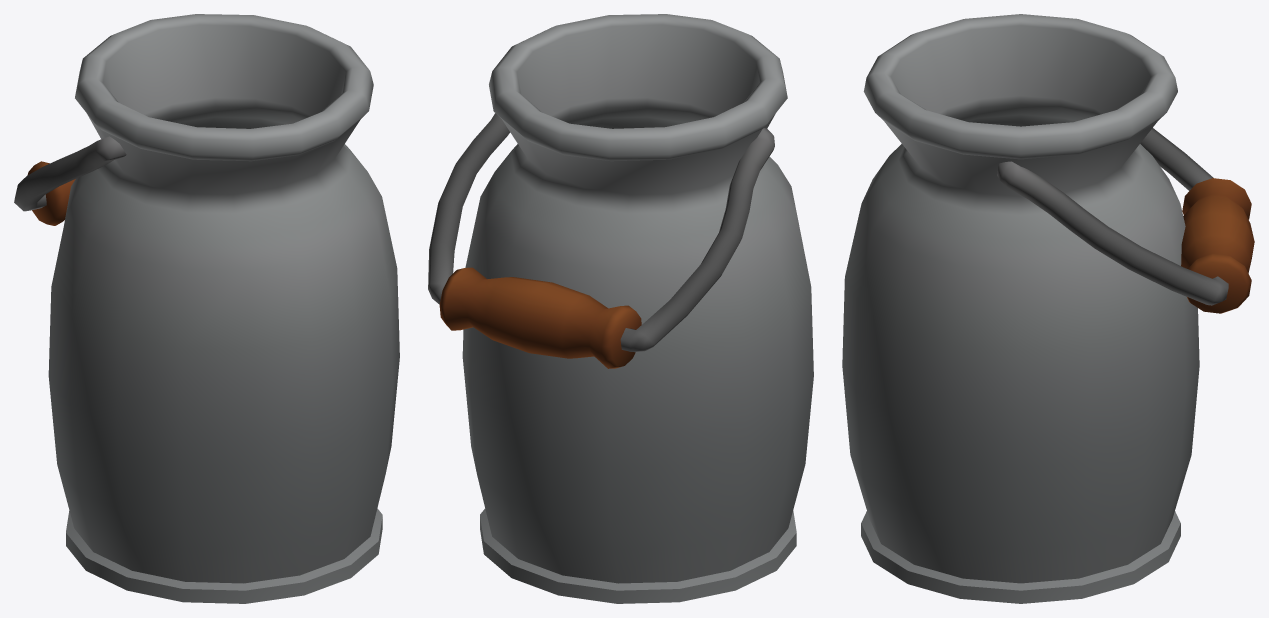
The model's file is Station Milk.fbx.
The picture shows the model from 3 angles, left to right: view 1: azimuth 30°, elevation 25°; view 2: azimuth 150°, elevation 25°; view 3: azimuth 270°, elevation 25°; orthographic projection.
Visible parts, largest first — view 1: Station_Milk; view 2: Station_Milk; view 3: Station_Milk.
Boxes of the visible parts, box(x1,y1,x2,y2) form: Station_Milk: box(14, 14, 399, 603); Station_Milk: box(428, 14, 813, 603); Station_Milk: box(842, 14, 1254, 603).
Size of the model in its own units: 31.99 by 46.01 by 37.05.
